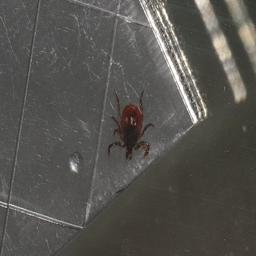Ixodes scapularis: (107, 95, 153, 159)
